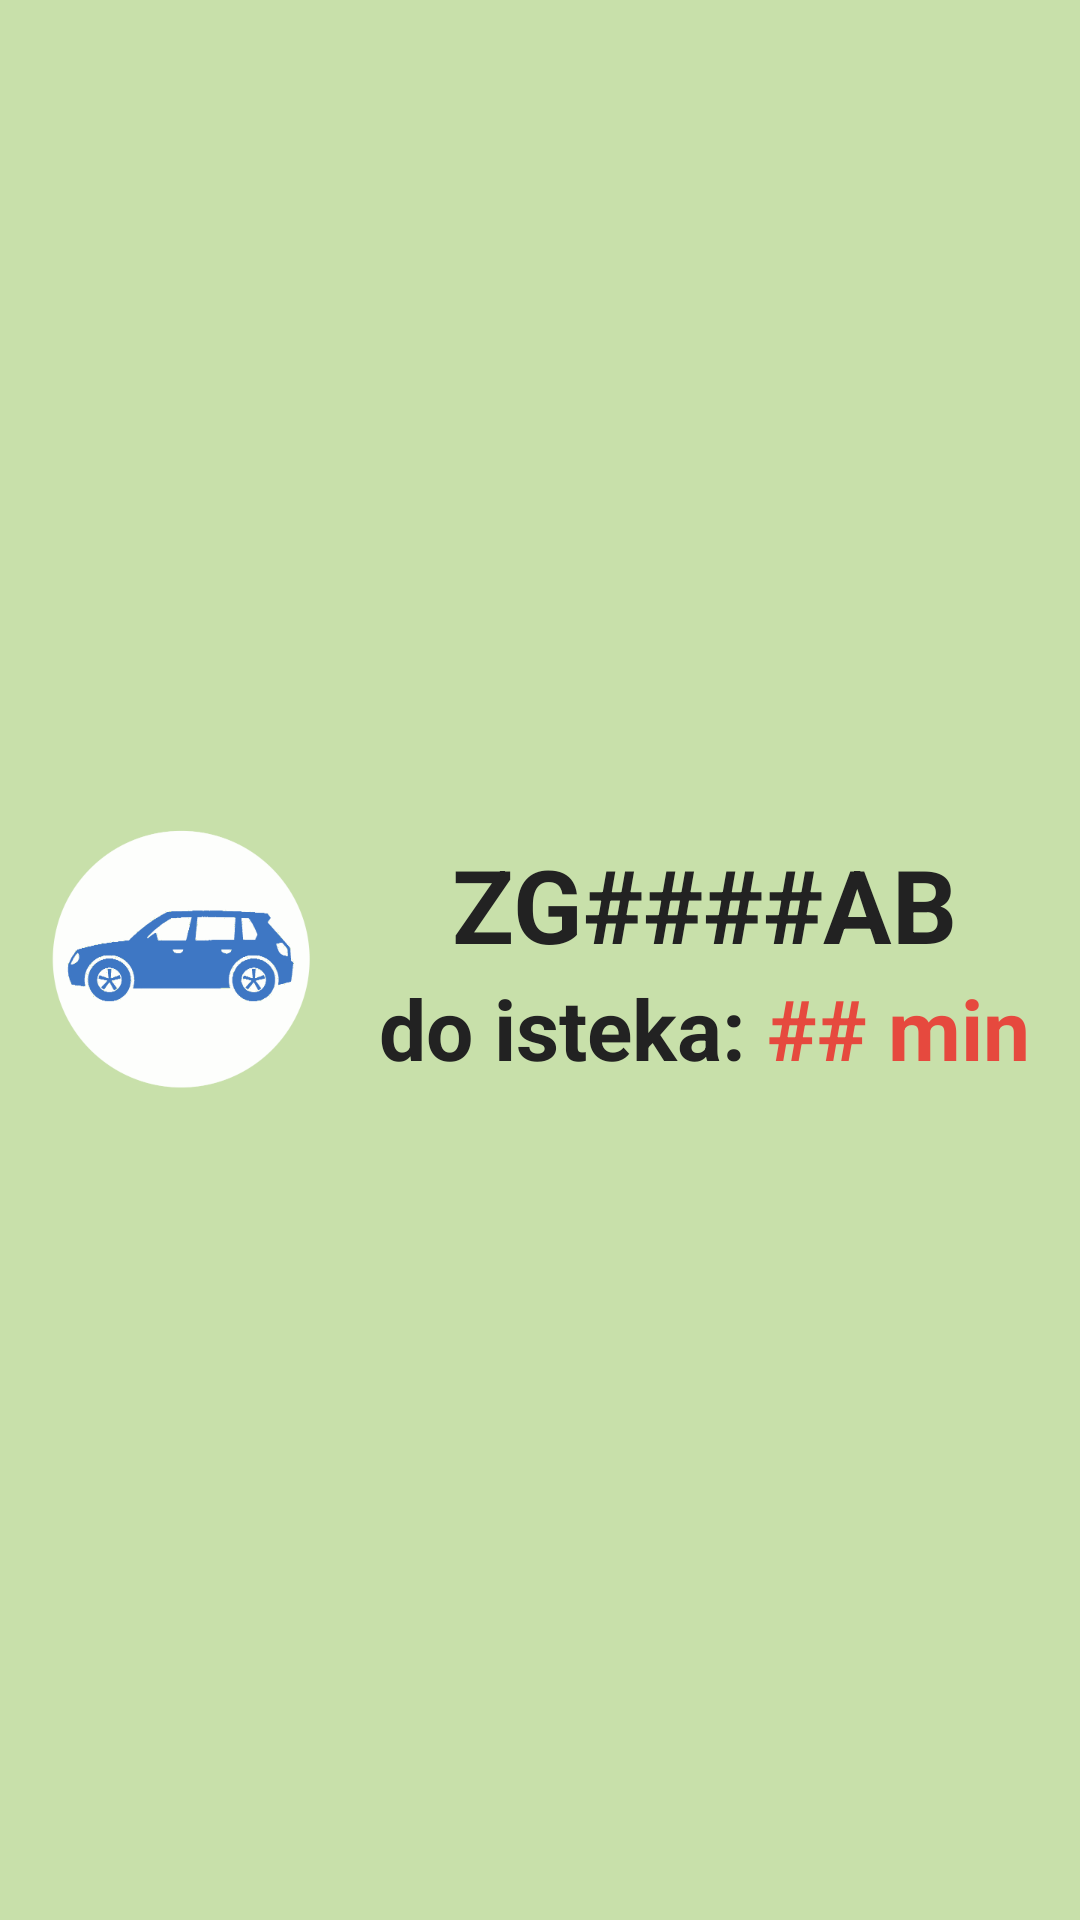

Locate icon controls on the screen. Image size 1080px x 1920px, boxes as [x1, y1, x2, y2].
car: [53, 831, 310, 1088]
